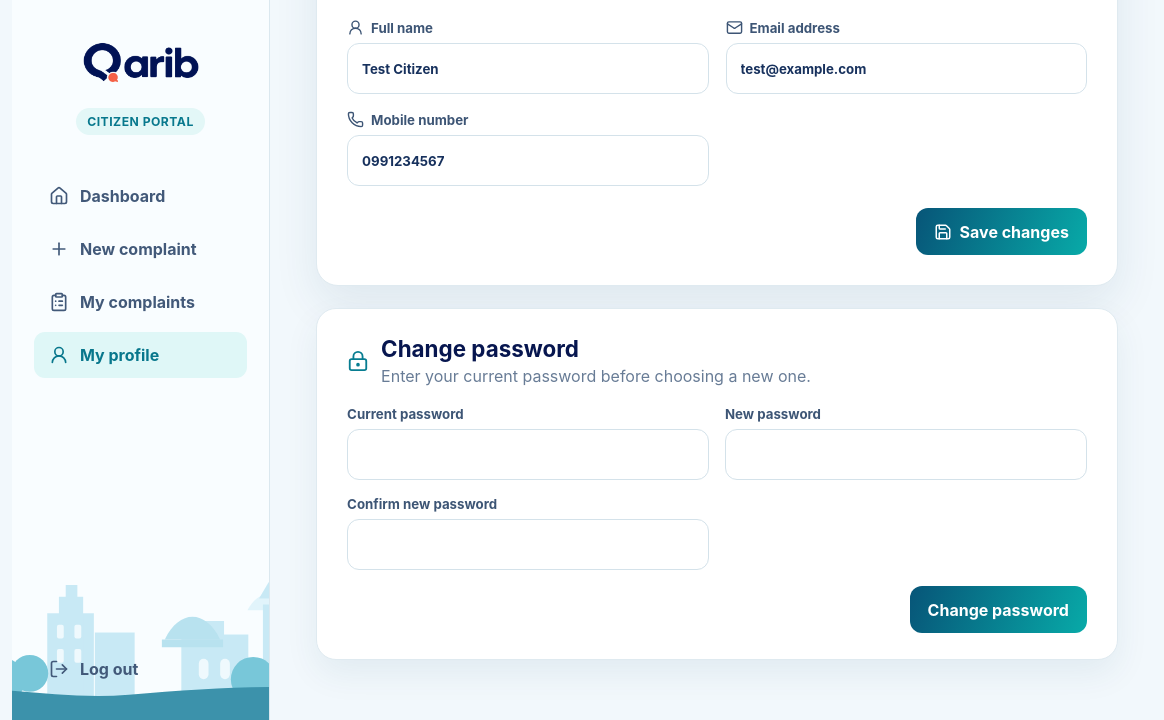
it: authentication pages › changes the signed-in citizen password after checking the current one
(page scrolled)
Expected: the heading "Change password" is shown, left=381, top=335, right=579, bottom=362
Type "ExistingStrongPass!2026" into the password field labelled "Current password". click: (528, 454)
box: left=347, top=429, right=709, bottom=480
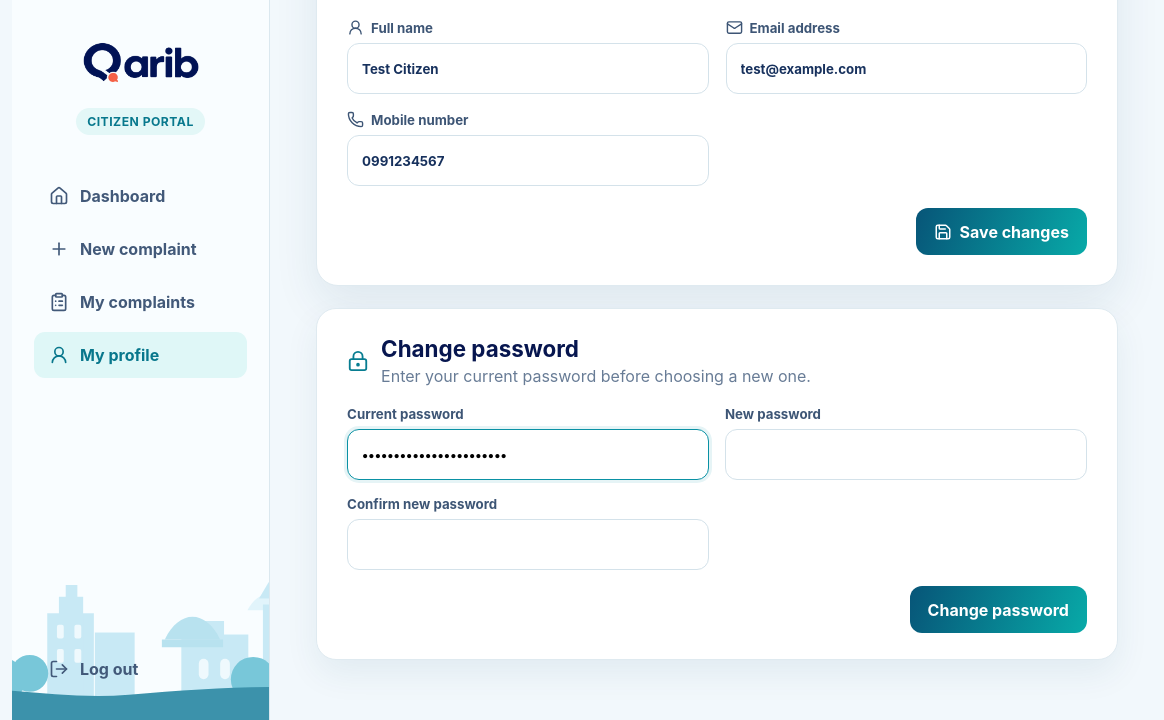
Type "DifferentStrongPass!2026" into the password field labelled "New password". click: (906, 454)
box: left=725, top=429, right=1087, bottom=480
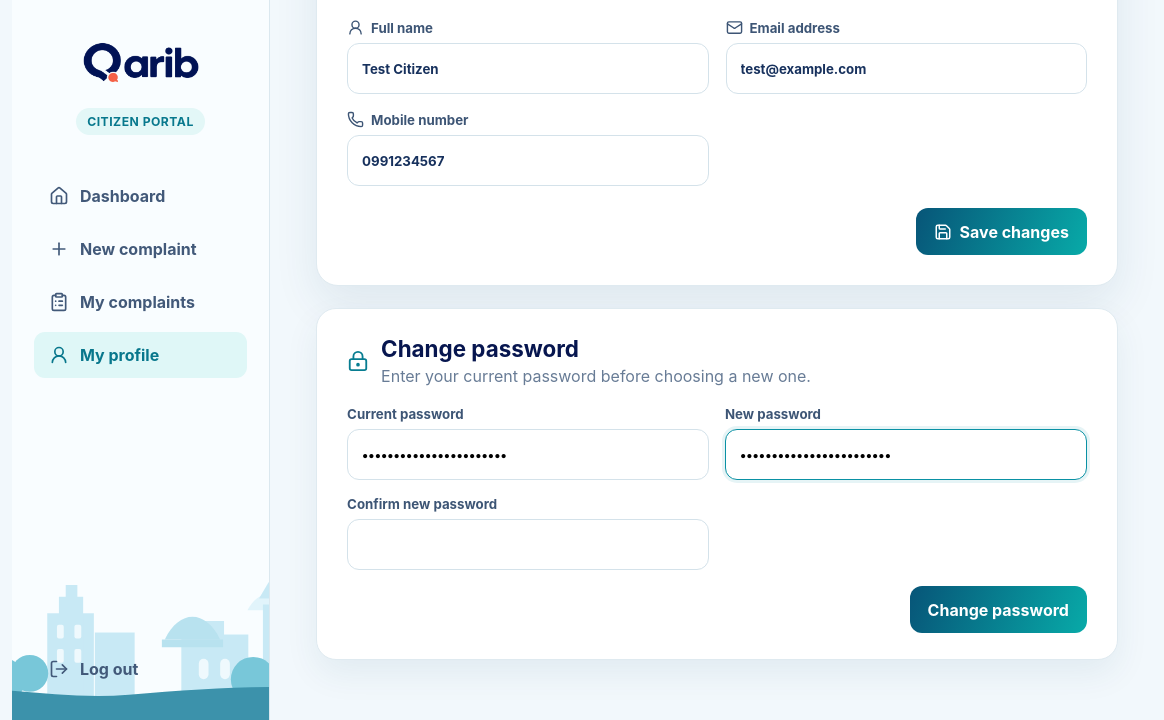
Type "DifferentStrongPass!2026" into the password field labelled "Confirm new password". click: (528, 544)
box: left=347, top=519, right=709, bottom=570
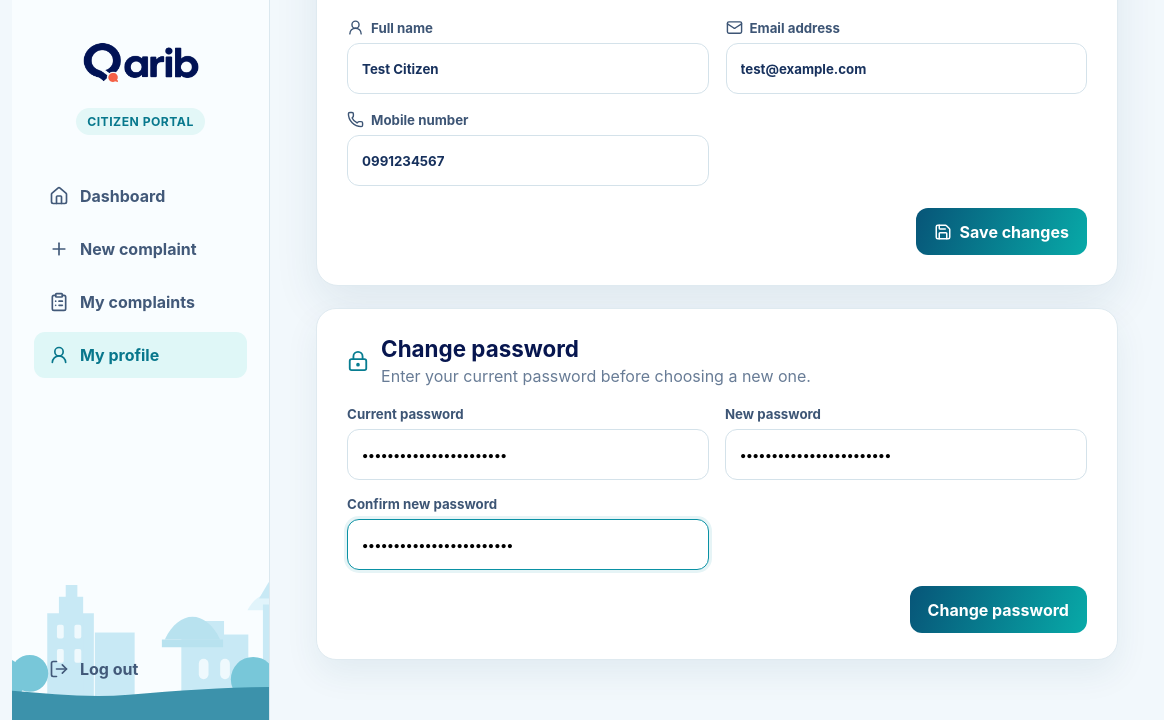
Click the button "Change password". click: (998, 610)
box: left=910, top=586, right=1087, bottom=633
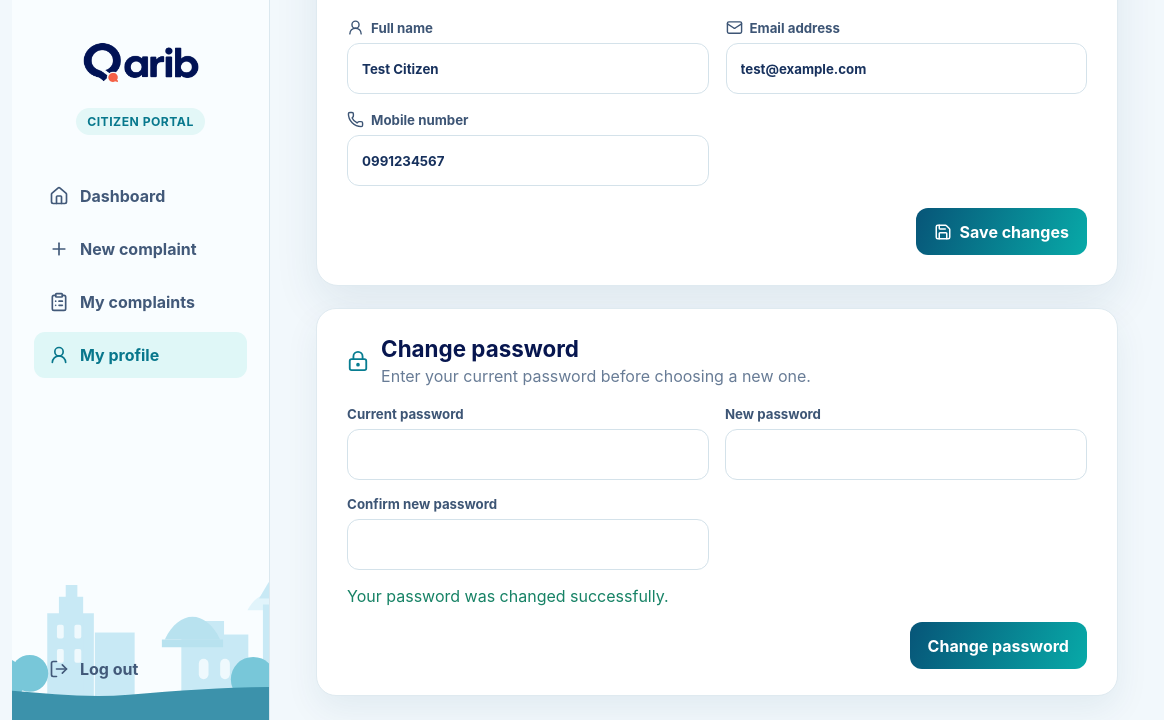
Expected: the text "Your password was changed successfully." is shown, left=347, top=586, right=669, bottom=606
Expected: the password field labelled "Current password" is empty, left=347, top=429, right=709, bottom=480
